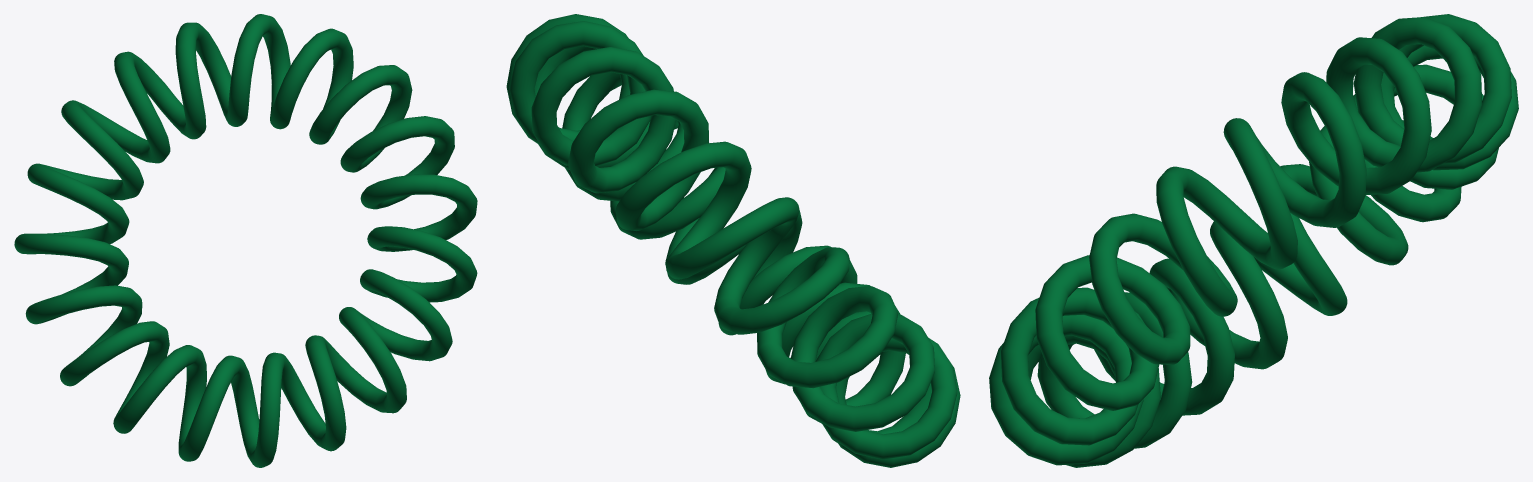
File: Hair_ring_02.glb
3 renders of one model, left to right at view 1: azimuth 30°, elevation 25°; view 2: azimuth 150°, elevation 25°; view 3: azimuth 270°, elevation 25°, orthographic. The views are drawn at different scales.
Visible parts, largest first — view 1: Hair_ring_02; view 2: Hair_ring_02; view 3: Hair_ring_02.
Part boxes in pixels (x1,y1,x2,y2): Hair_ring_02: (14, 14, 477, 467); Hair_ring_02: (506, 14, 960, 467); Hair_ring_02: (989, 14, 1518, 467).
Size of the model in its own units: 3.03 by 2.72 by 2.77.
